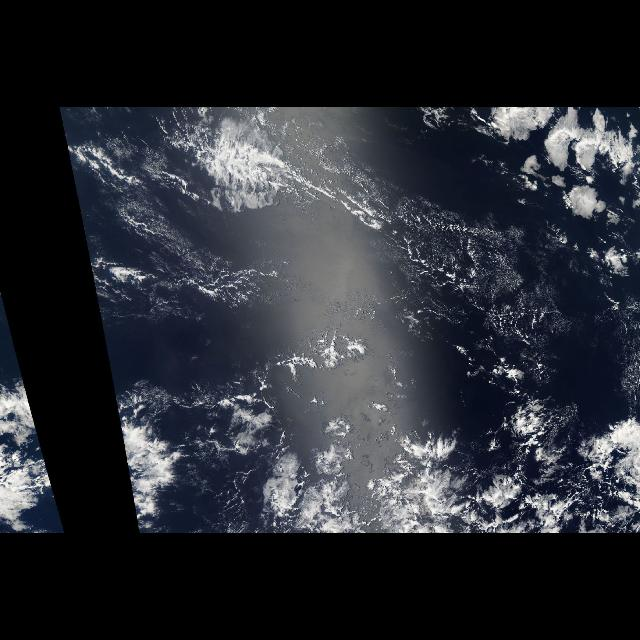Fish: (180, 118, 442, 282)
